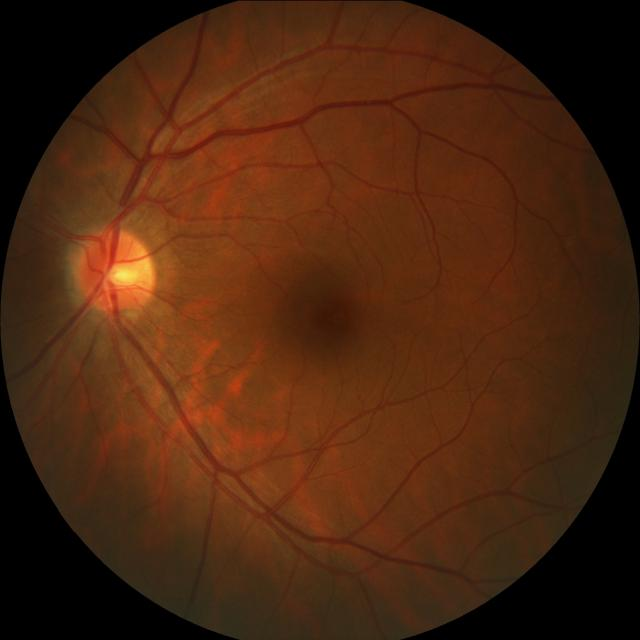OC: (106, 257, 138, 290)
OD: (75, 225, 159, 316)
